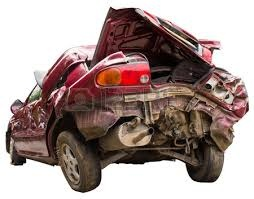Dent: (9, 89, 61, 135)
Smashed: (84, 50, 247, 144)
